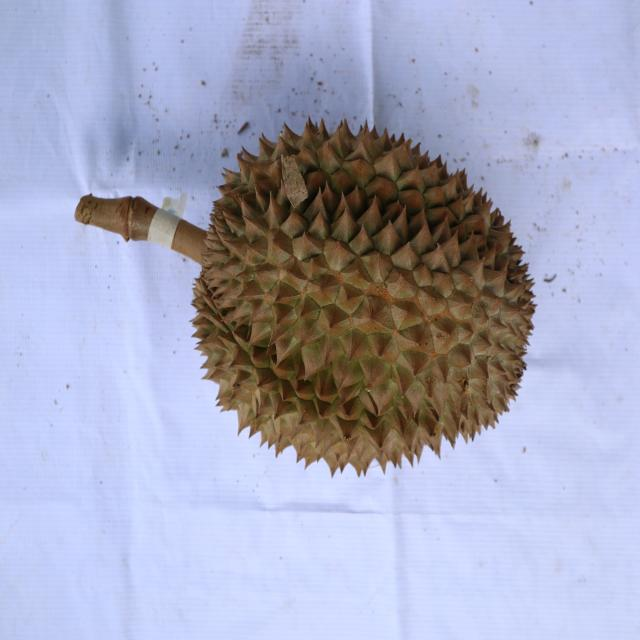mature: (188, 116, 536, 480)
